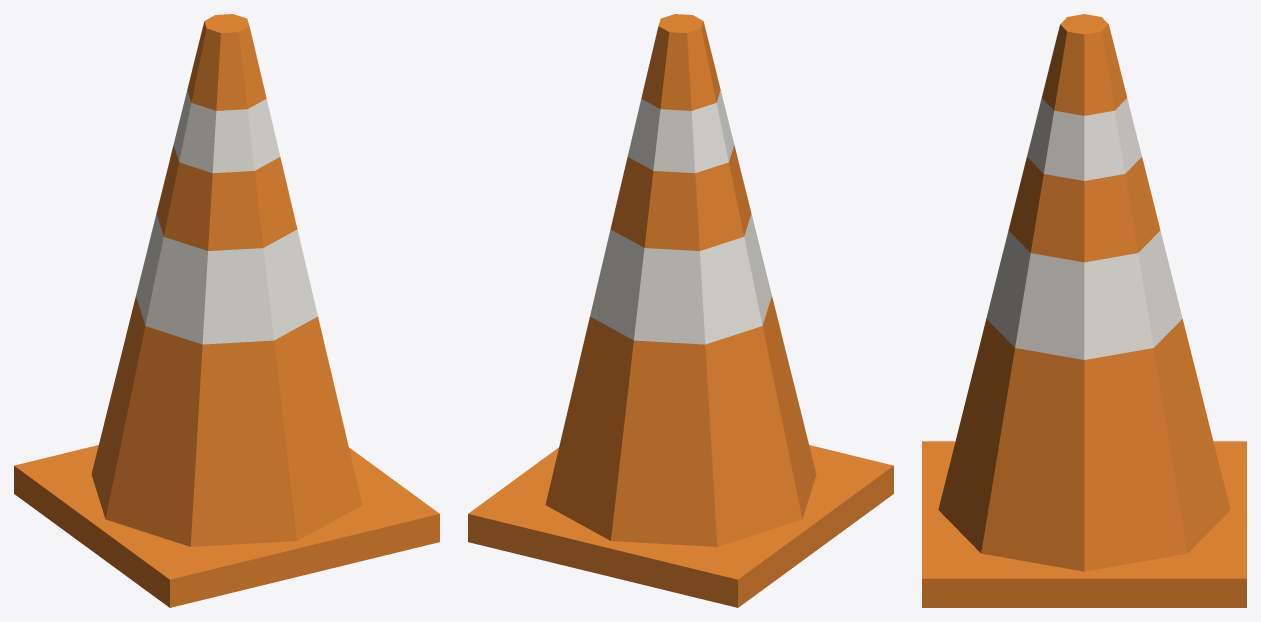
The model's file is traffic_cone.glb.
3 views of the same model, side by side, from view 1: azimuth 30°, elevation 25°; view 2: azimuth 150°, elevation 25°; view 3: azimuth 270°, elevation 25° (orthographic). The views are drawn at different scales.
Visible parts, largest first — view 1: traffic_cone; view 2: traffic_cone; view 3: traffic_cone.
Boxes of the visible parts, x1,y1,x2,y2 form: traffic_cone: (14, 14, 439, 607); traffic_cone: (468, 14, 893, 607); traffic_cone: (922, 14, 1246, 607).
Size of the model in its own units: 0.4 by 0.7 by 0.4.
